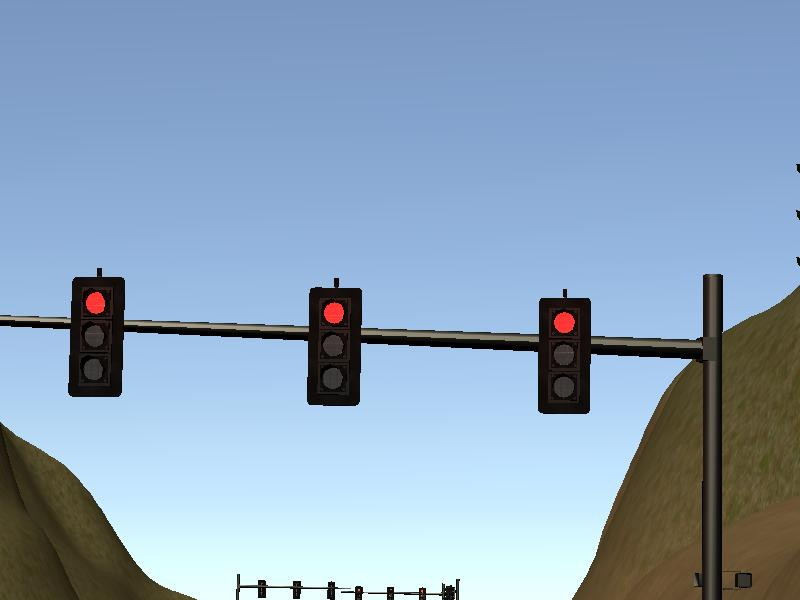red: (69, 274, 125, 397), (307, 284, 362, 408), (538, 294, 590, 413)
